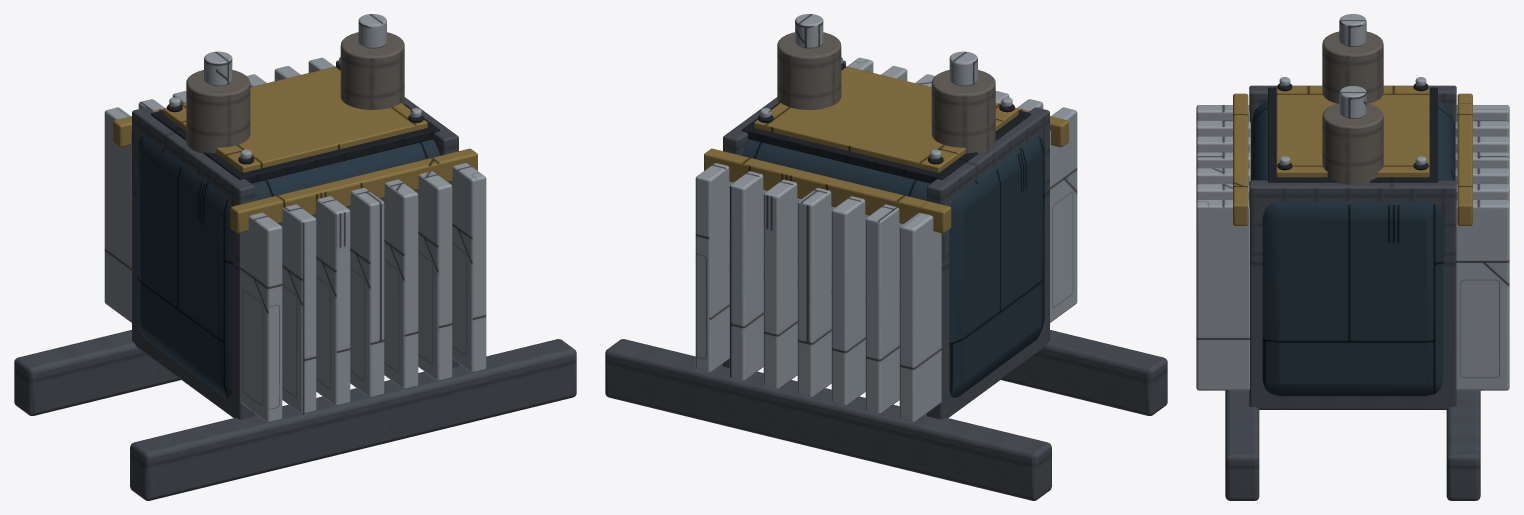
File: ops_transformer_skid_lod0.glb
3 renders of one model, left to right at view 1: azimuth 30°, elevation 25°; view 2: azimuth 150°, elevation 25°; view 3: azimuth 270°, elevation 25°, orthographic. The views are drawn at different scales.
Visible parts, largest first — view 1: LOD0_BrushedMetal, LOD0_Mechanical, LOD0_Armor, LOD0_Hull, LOD0_Ceramic, LOD0_MechanicalDark; view 2: LOD0_BrushedMetal, LOD0_Mechanical, LOD0_Armor, LOD0_Hull, LOD0_Ceramic, LOD0_MechanicalDark; view 3: LOD0_Armor, LOD0_BrushedMetal, LOD0_Mechanical, LOD0_Hull, LOD0_Ceramic, LOD0_MechanicalDark.
Boxes of the visible parts, <box> form: LOD0_BrushedMetal: <box>104,14,486,422</box>; LOD0_Mechanical: <box>14,60,576,500</box>; LOD0_Armor: <box>137,136,440,397</box>; LOD0_Hull: <box>113,66,477,233</box>; LOD0_Ceramic: <box>186,32,404,153</box>; LOD0_MechanicalDark: <box>151,63,439,183</box>; LOD0_BrushedMetal: <box>695,14,1077,422</box>; LOD0_Mechanical: <box>605,60,1167,500</box>; LOD0_Armor: <box>741,136,1044,397</box>; LOD0_Hull: <box>704,66,1068,233</box>; LOD0_Ceramic: <box>777,32,995,153</box>; LOD0_MechanicalDark: <box>742,63,1030,183</box>; LOD0_Armor: <box>1251,100,1454,396</box>; LOD0_BrushedMetal: <box>1196,14,1509,390</box>; LOD0_Mechanical: <box>1225,85,1480,500</box>; LOD0_Hull: <box>1233,86,1472,225</box>; LOD0_Ceramic: <box>1322,31,1383,184</box>; LOD0_MechanicalDark: <box>1268,83,1437,182</box>.
Size of the model in its own units: 2.8 by 2.25 by 1.84.
Materials: 6 (6 with a texture image).
